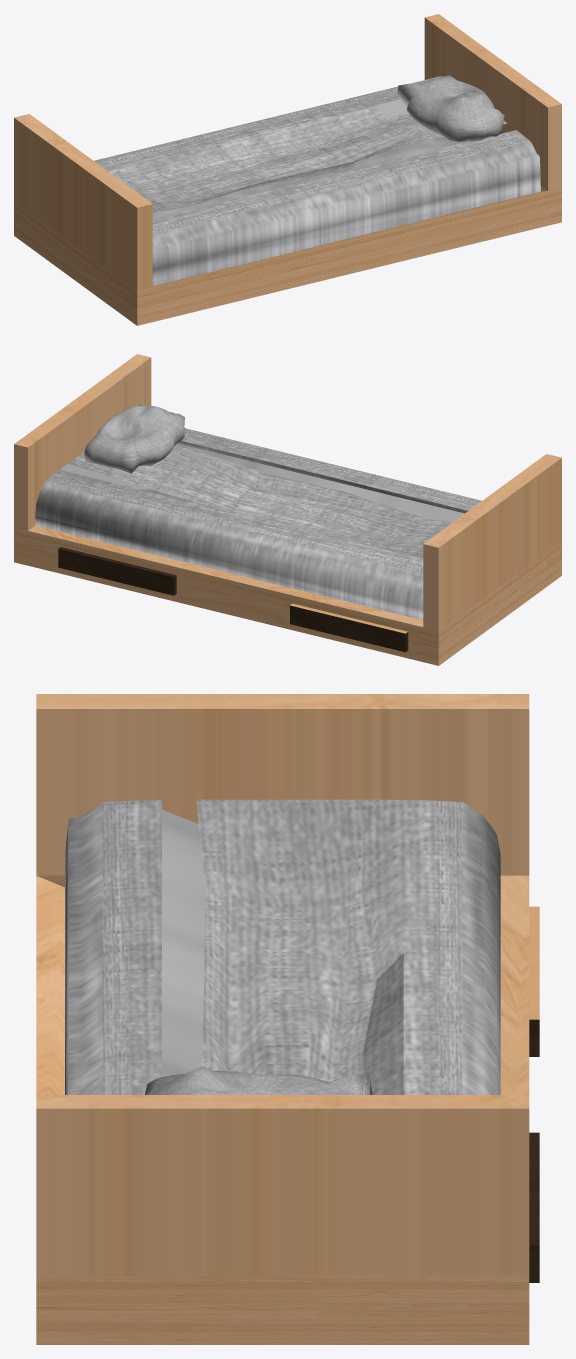
Rendered from bed.fbx.
The picture shows the model from 3 angles, top to bottom: view 1: azimuth 30°, elevation 25°; view 2: azimuth 150°, elevation 25°; view 3: azimuth 270°, elevation 25°; orthographic projection. The views are drawn at different scales.
Visible parts, largest first — view 1: Cube.002, Cube.001; view 2: Cube.002, Cube.001; view 3: Cube.002, Cube.001.
Boxes of the visible parts, left/top/right/bottom form: Cube.002: left=14, top=14, right=561, bottom=325; Cube.001: left=397, top=75, right=504, bottom=141; Cube.002: left=14, top=354, right=561, bottom=665; Cube.001: left=84, top=404, right=184, bottom=473; Cube.002: left=36, top=694, right=539, bottom=1344; Cube.001: left=144, top=1066, right=372, bottom=1094.
Size of the model in its own units: 851 by 226 by 436.
Materials: 4 (4 with a texture image).
